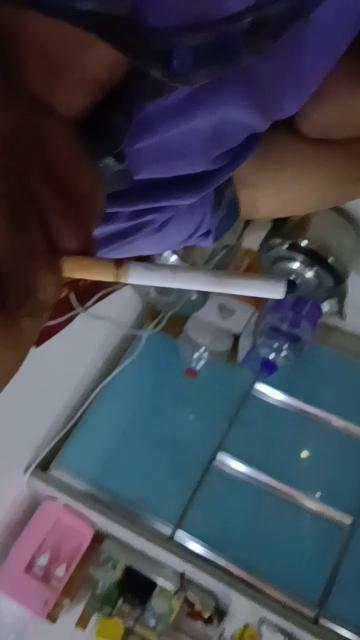Cigarette: (60, 256, 288, 302)
